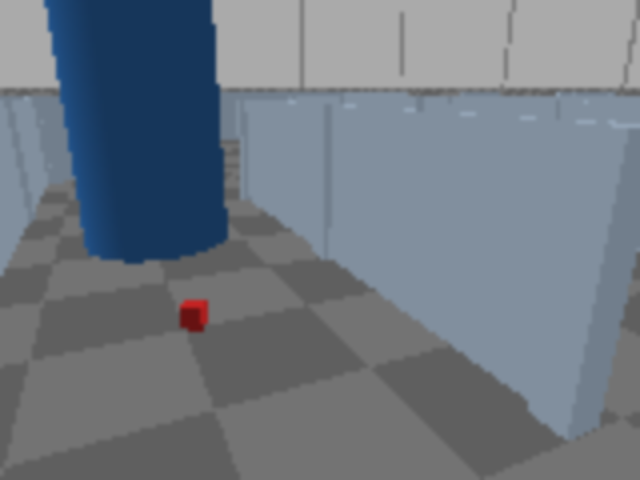puck: (179, 299, 209, 330)
